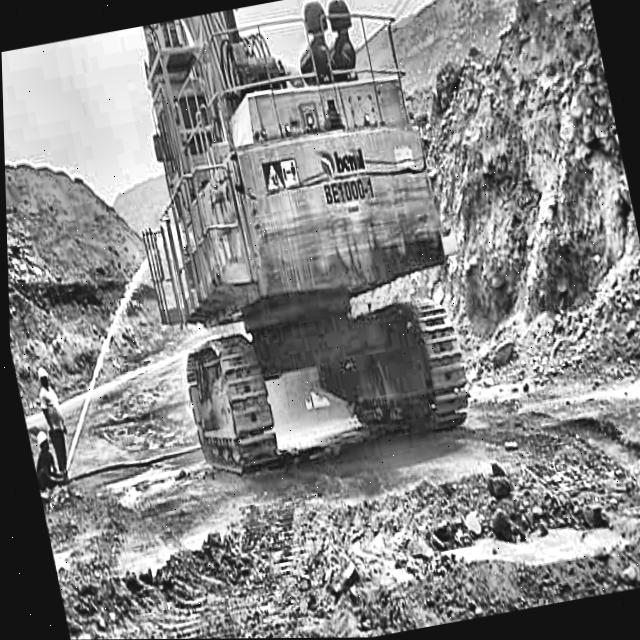excavator: (101, 0, 506, 493)
